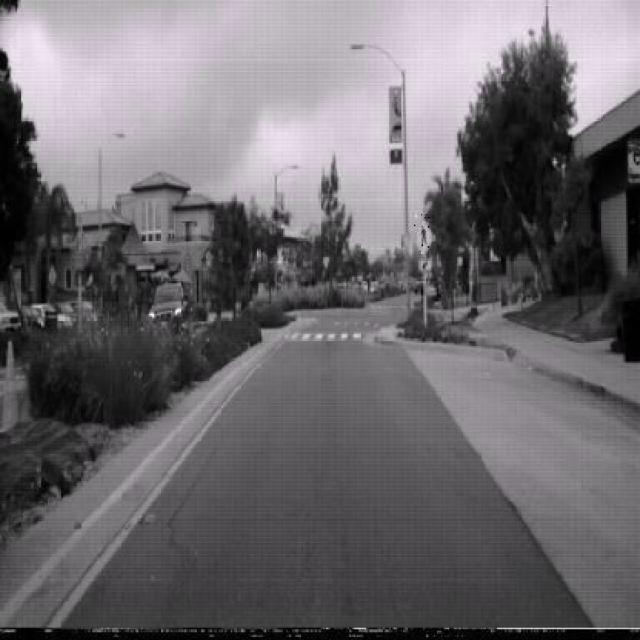pedestrianCrossing: (415, 214, 437, 257)
yield: (400, 231, 412, 251)
